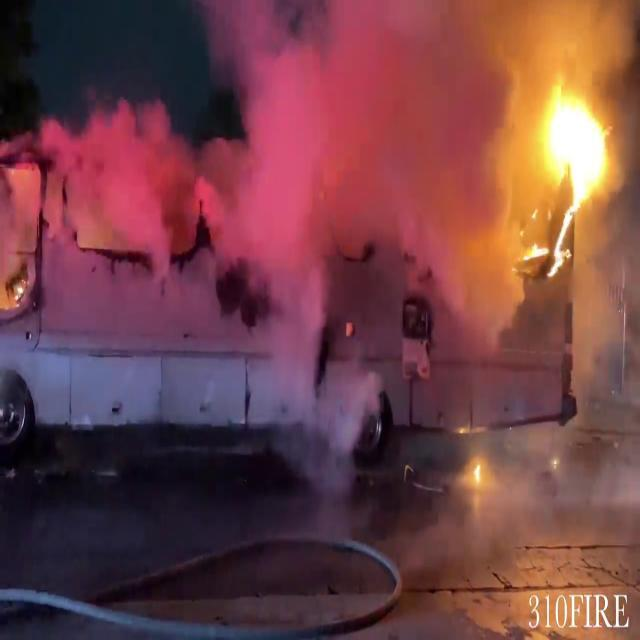Fire: (536, 77, 616, 202)
Smoke: (206, 0, 544, 308), (8, 92, 270, 316)
